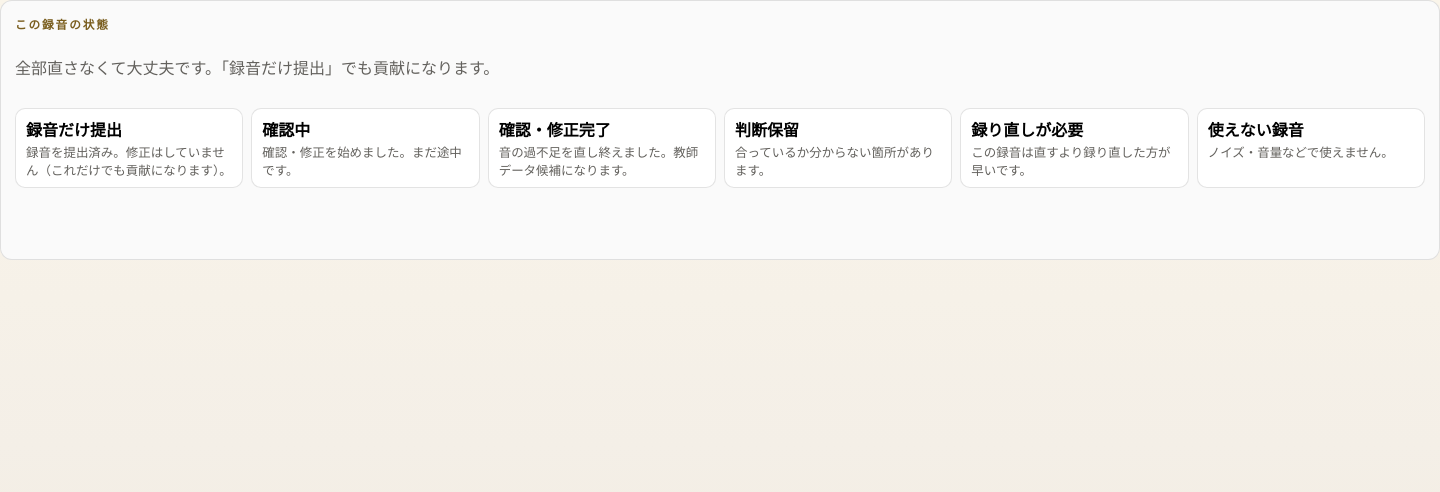
Test: ReviewStatusPanel › blocks review_completed while corrections are unsaved
Click the button "確認・修正完了 音の過不足を直し終えました。教師データ候補になります。": {"x": 602, "y": 148} [488,108,716,188]
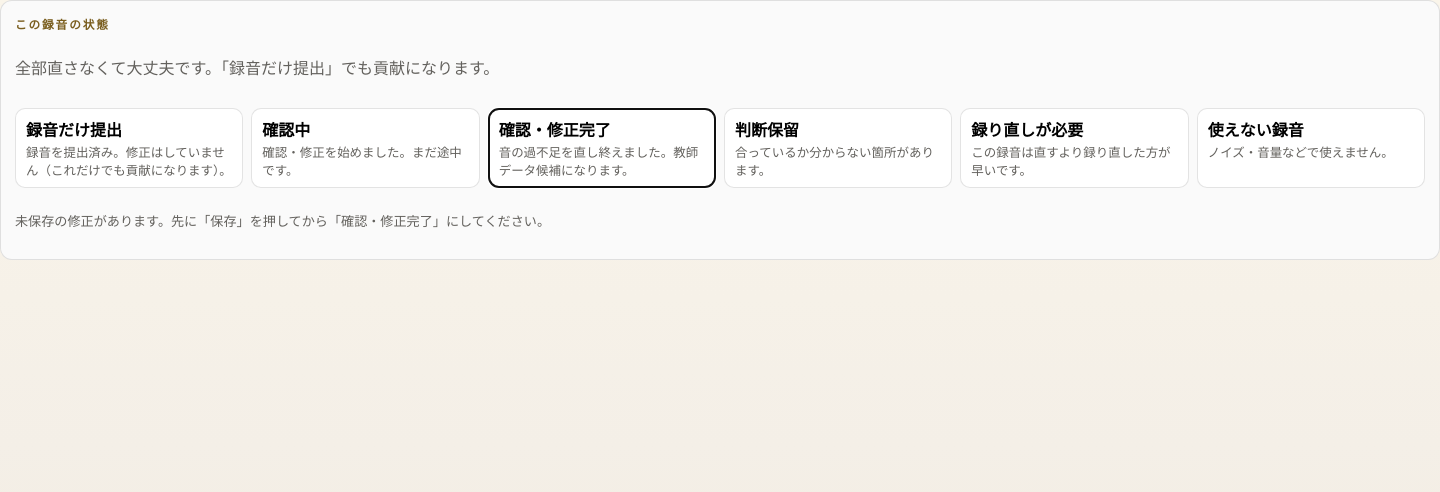
Expected: the message shows "未保存の修正があります", [15,212,550,230]
